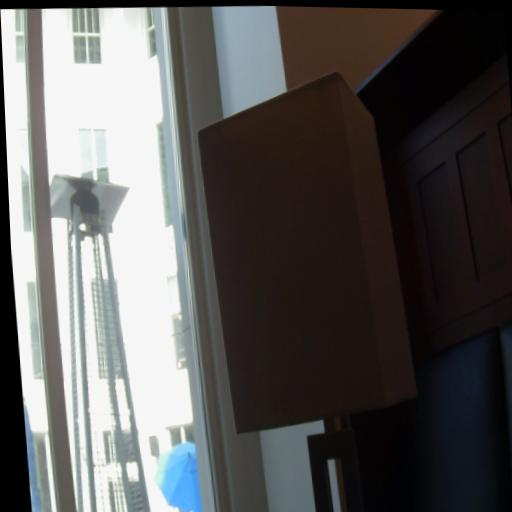lamp: (191, 67, 427, 512)
